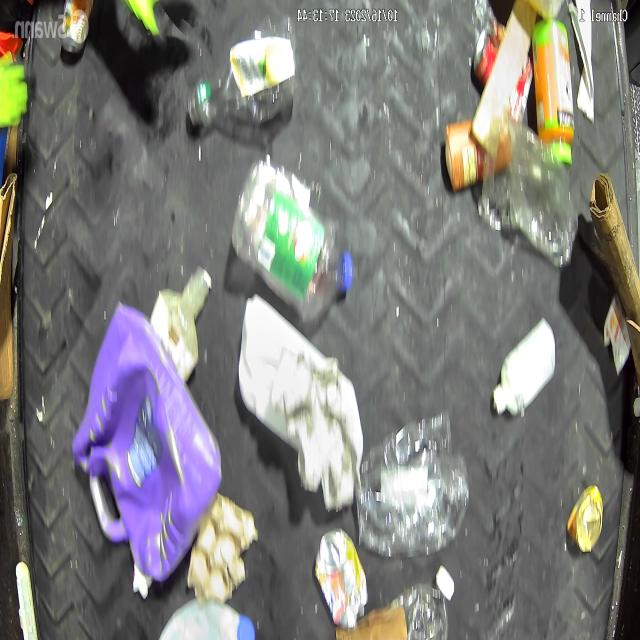can: (314, 528, 370, 632), (567, 482, 608, 558)
milk_jug: (156, 593, 258, 640)
non_white_jug: (73, 294, 226, 599)
plastic_bottle: (236, 160, 354, 324), (185, 14, 296, 135), (385, 566, 458, 640)
